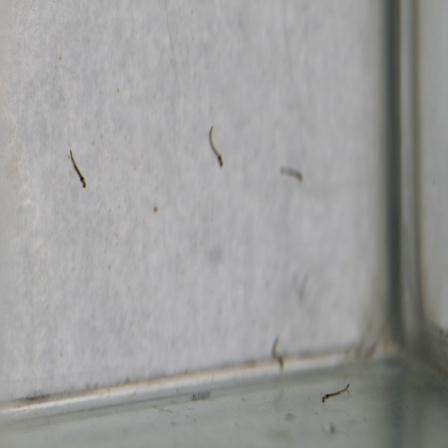Jentik-Nyamuk: (63, 146, 91, 191), (316, 379, 356, 410)
